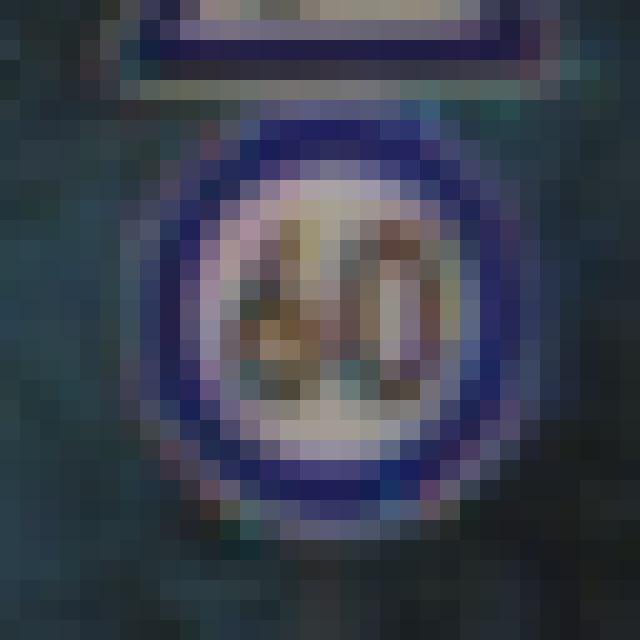SPEED-LIMIT-60: (82, 112, 551, 555)
